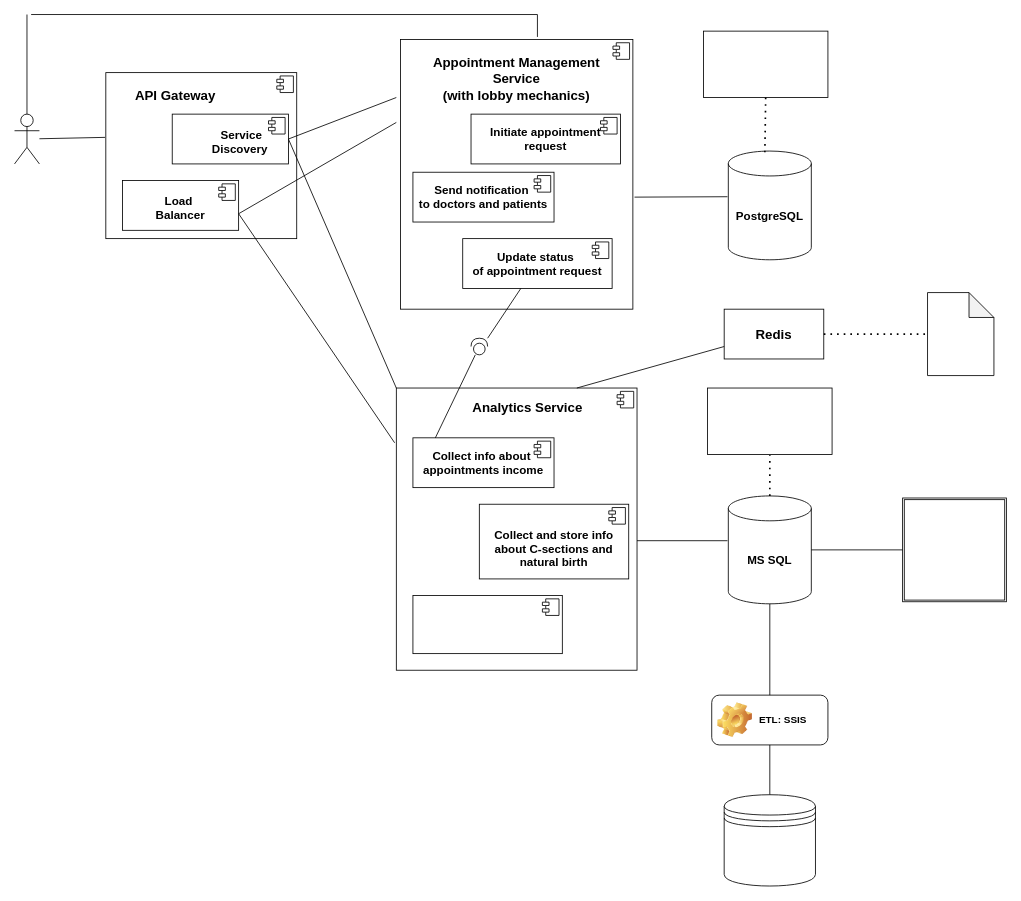
Some shapes in this 1021 by 901 pixel diagram are drawn without their labels. Each missing label, with the centre of its shape:
"Actor" belongs at point 26,138.
"GCS Bucket with CSV files" belongs at point 769,840.
"Power BI (dashboards and reports)" belongs at point 954,549.
"Prepare data for analysis" belongs at point 487,624.
"Stores all operations data for reporting" belongs at point 769,420.
"Stores most recent query results" belongs at point 960,334.
"Stores patients info and appointments statuses" belongs at point 765,64.
